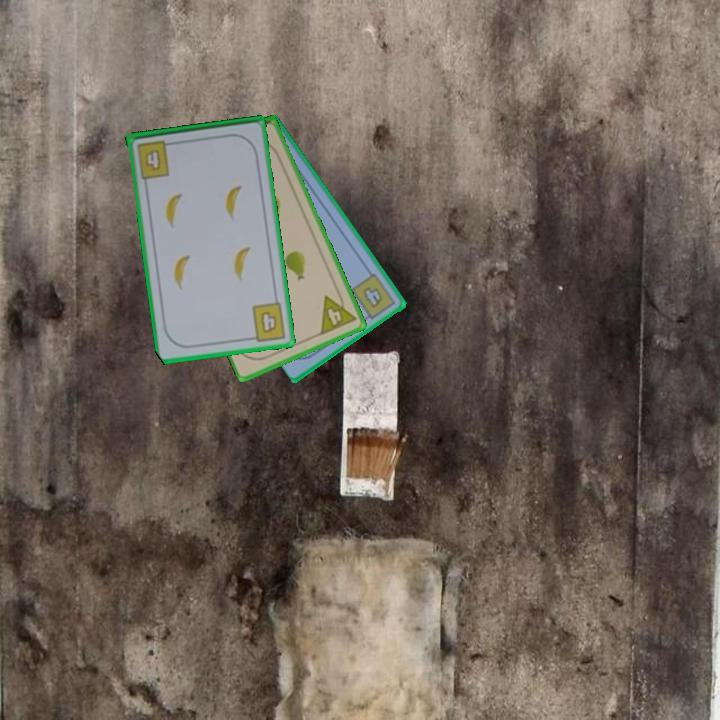4b: (348, 270, 398, 324), (133, 136, 177, 182), (245, 299, 289, 344)
4p: (317, 287, 359, 338)
